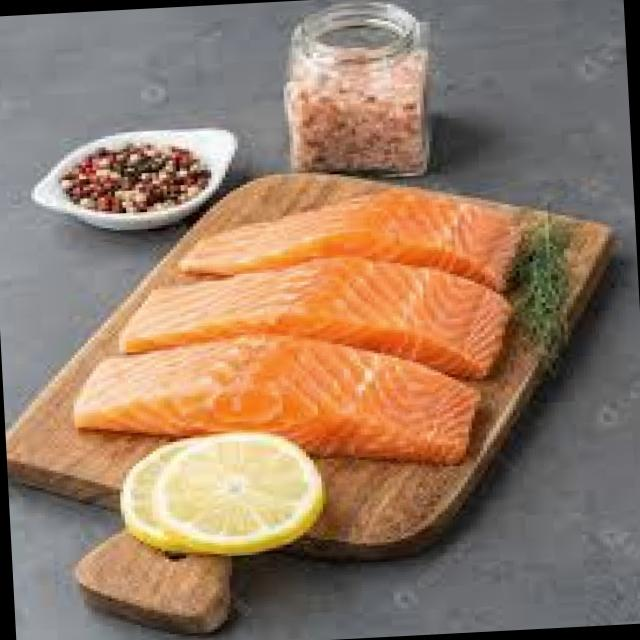Fish: (76, 320, 502, 496), (116, 251, 532, 396), (208, 182, 522, 292)
